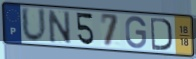5: (75, 11, 95, 46)
7: (99, 12, 122, 48)
D: (150, 16, 174, 52)
G: (124, 15, 148, 50)
N: (47, 9, 73, 45)
U: (20, 6, 49, 45)
